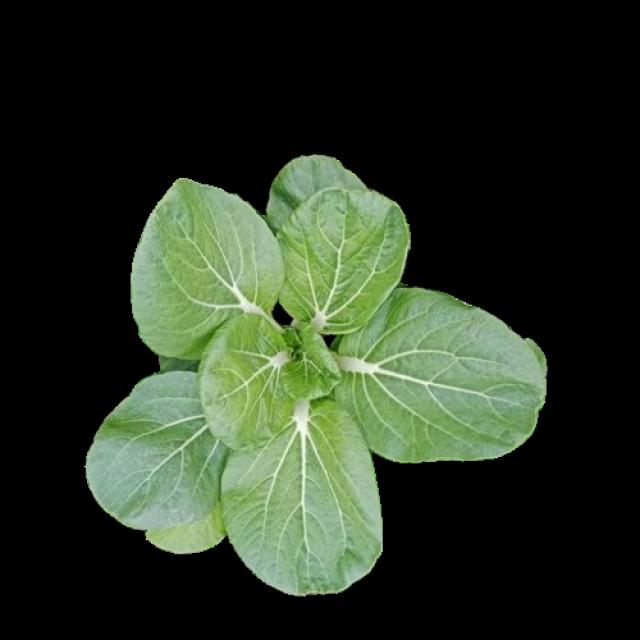healthy: (88, 155, 540, 594)
mature: (91, 158, 543, 596)
